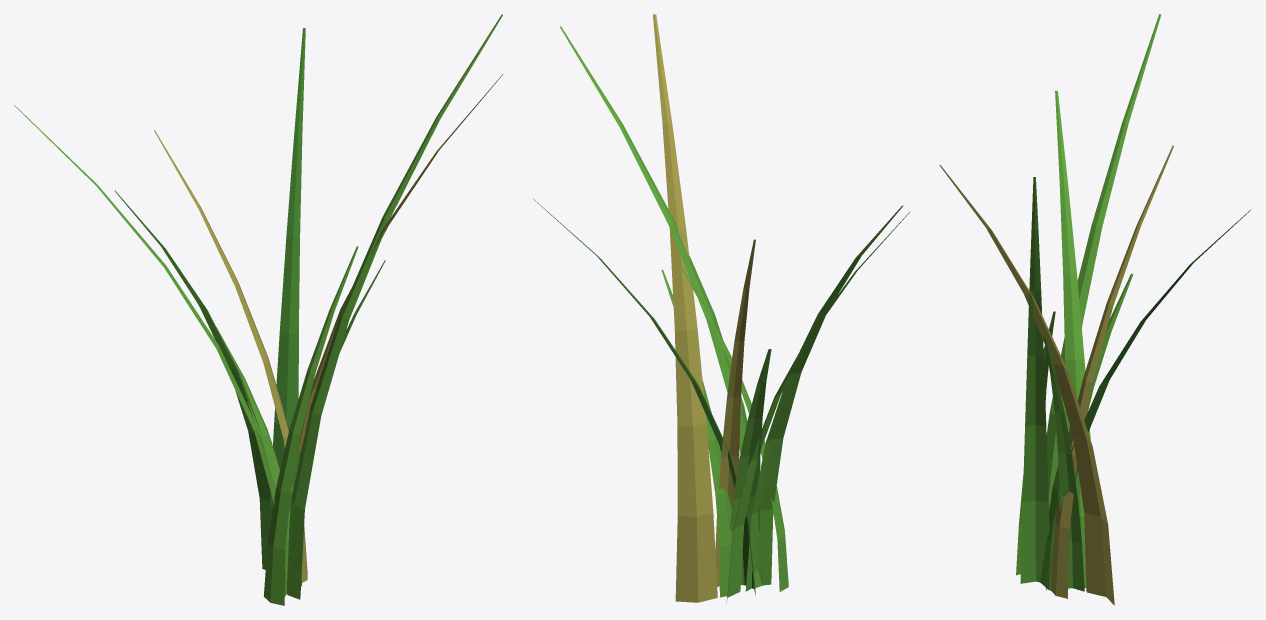
Rendered from grass_clump.glb.
3 renders of one model, left to right at view 1: azimuth 30°, elevation 25°; view 2: azimuth 150°, elevation 25°; view 3: azimuth 270°, elevation 25°, orthographic. The views are drawn at different scales.
Parts seen in each view (by area): view 1: grass_clump; view 2: grass_clump; view 3: grass_clump.
Boxes of the visible parts, x1,y1,x2,y2 form: grass_clump: (14, 14, 502, 605); grass_clump: (533, 14, 910, 602); grass_clump: (939, 14, 1251, 605).
Bounding box in the file's own units: 21.13 × 25.23 × 14.18.
